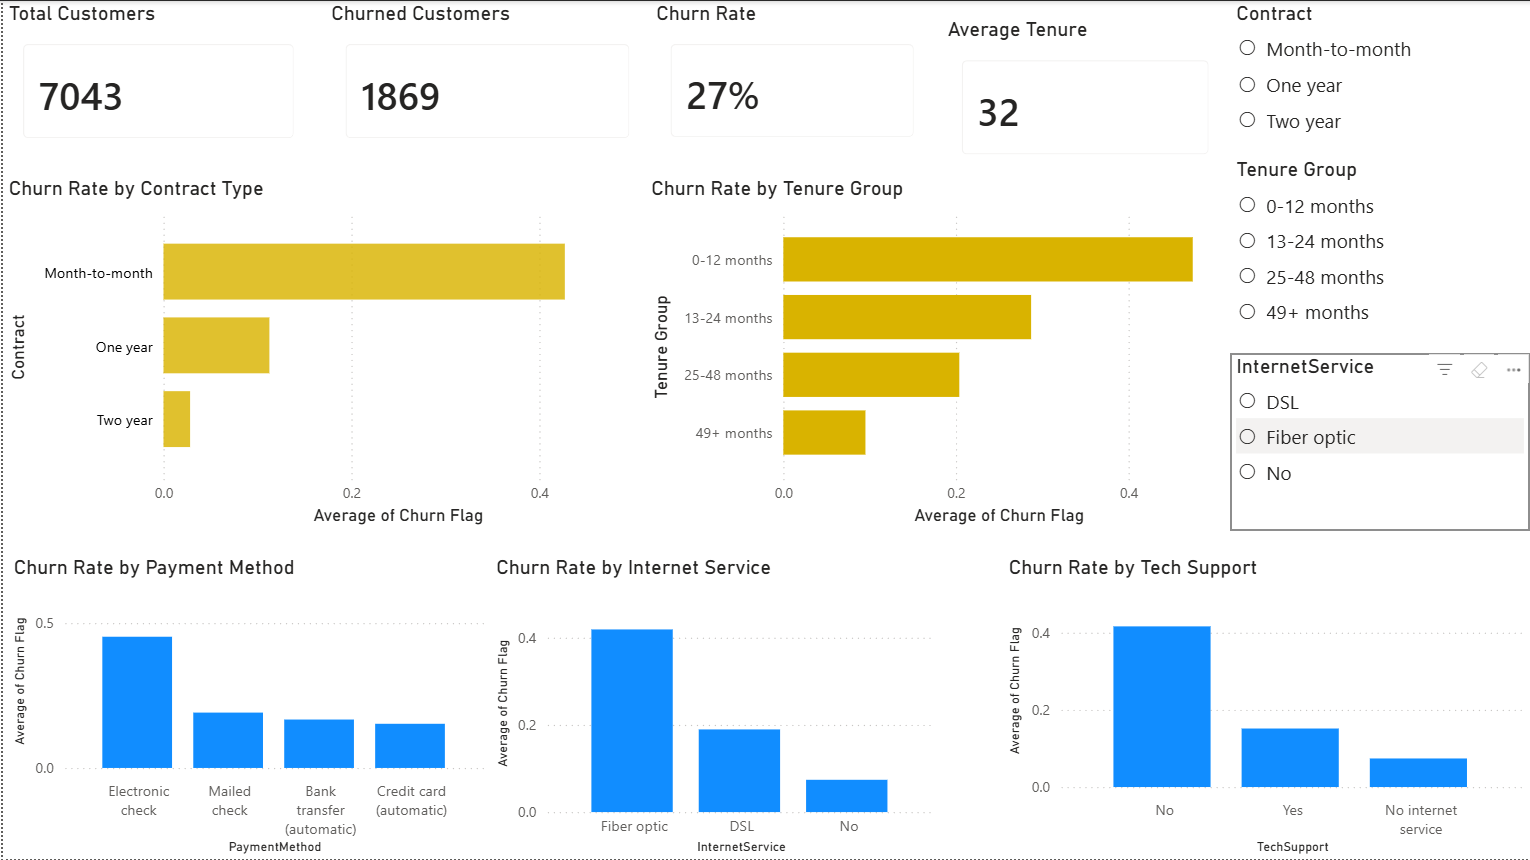

The dashboard page shown, as its layout file describes it:
{"tool":"powerbi","page":{"name":"Dash One","canvas":[1280,720],"ordinal":0},"visuals":[{"type":"cardVisual","title":"Total Customers","fields":{"Data":["CountNonNull(WA_Fn-UseC_-Telco-Customer-Chur.customerID)"]},"box":[0,0,261.6,132.6],"z":0},{"type":"cardVisual","title":"Churned Customers","fields":{"Data":["Sum(WA_Fn-UseC_-Telco-Customer-Chur.Churn Flag)"]},"box":[270.9,0,272.1,132.6],"z":1},{"type":"cardVisual","title":"Churn Rate","fields":{"Data":["Avg(WA_Fn-UseC_-Telco-Customer-Chur.Churn Flag)"]},"box":[543,0,238.4,131.4],"z":2},{"type":"cardVisual","title":"Average Tenure","fields":{"Data":["Avg(WA_Fn-UseC_-Telco-Customer-Chur.tenure)"]},"box":[787.2,14,241.9,132.6],"z":3},{"type":"clusteredBarChart","title":"Churn Rate by Contract Type","fields":{"Category":["WA_Fn-UseC_-Telco-Customer-Chur.Contract"],"Y":["Avg(WA_Fn-UseC_-Telco-Customer-Chur.Churn Flag)"]},"box":[0,146.5,541.9,297.7],"z":4},{"type":"clusteredBarChart","title":"Churn Rate by Tenure Group","fields":{"Y":["Avg(WA_Fn-UseC_-Telco-Customer-Chur.Churn Flag)"],"Category":["WA_Fn-UseC_-Telco-Customer-Chur.Tenure Group"]},"box":[538.4,146.5,490.7,297.7],"z":5},{"type":"clusteredColumnChart","title":"Churn Rate by Payment Method","fields":{"Category":["WA_Fn-UseC_-Telco-Customer-Chur.PaymentMethod"],"Y":["Avg(WA_Fn-UseC_-Telco-Customer-Chur.Churn Flag)"]},"box":[4.7,464,404.7,255.8],"z":6},{"type":"clusteredColumnChart","title":"Churn Rate by Internet Service","fields":{"Category":["WA_Fn-UseC_-Telco-Customer-Chur.InternetService"],"Y":["Avg(WA_Fn-UseC_-Telco-Customer-Chur.Churn Flag)"]},"box":[409.3,464,377.9,255.8],"z":7},{"type":"clusteredColumnChart","title":"Churn Rate by Tech Support","fields":{"Category":["WA_Fn-UseC_-Telco-Customer-Chur.TechSupport"],"Y":["Avg(WA_Fn-UseC_-Telco-Customer-Chur.Churn Flag)"]},"box":[838.4,464,441.9,255.8],"z":8},{"type":"listSlicer","fields":{"Values":["WA_Fn-UseC_-Telco-Customer-Chur.Contract"]},"box":[1029.1,0,251.2,146.5],"z":9},{"type":"listSlicer","fields":{"Values":["WA_Fn-UseC_-Telco-Customer-Chur.InternetService"]},"box":[1029.1,295.3,251.2,148.8],"z":10},{"type":"listSlicer","fields":{"Values":["WA_Fn-UseC_-Telco-Customer-Chur.Tenure Group"]},"box":[1029.1,131.4,251.2,164],"z":11}]}

Visuals, with their boxes in screenshot pixels (x1, y1, x2, y2), scaled from the page's 1280x720 canvas onto the 1530x860 screenshot:
"Total Customers" cardVisual: 0,0,313,158
"Churned Customers" cardVisual: 324,0,649,158
"Churn Rate" cardVisual: 649,0,934,157
"Average Tenure" cardVisual: 941,17,1230,175
"Churn Rate by Contract Type" clusteredBarChart: 0,175,648,531
"Churn Rate by Tenure Group" clusteredBarChart: 644,175,1230,531
"Churn Rate by Payment Method" clusteredColumnChart: 6,554,489,859
"Churn Rate by Internet Service" clusteredColumnChart: 489,554,941,859
"Churn Rate by Tech Support" clusteredColumnChart: 1002,554,1529,859
listSlicer - WA_Fn-UseC_-Telco-Customer-Chur.Contract: 1230,0,1529,175
listSlicer - WA_Fn-UseC_-Telco-Customer-Chur.InternetService: 1230,353,1529,530
listSlicer - WA_Fn-UseC_-Telco-Customer-Chur.Tenure Group: 1230,157,1529,353
